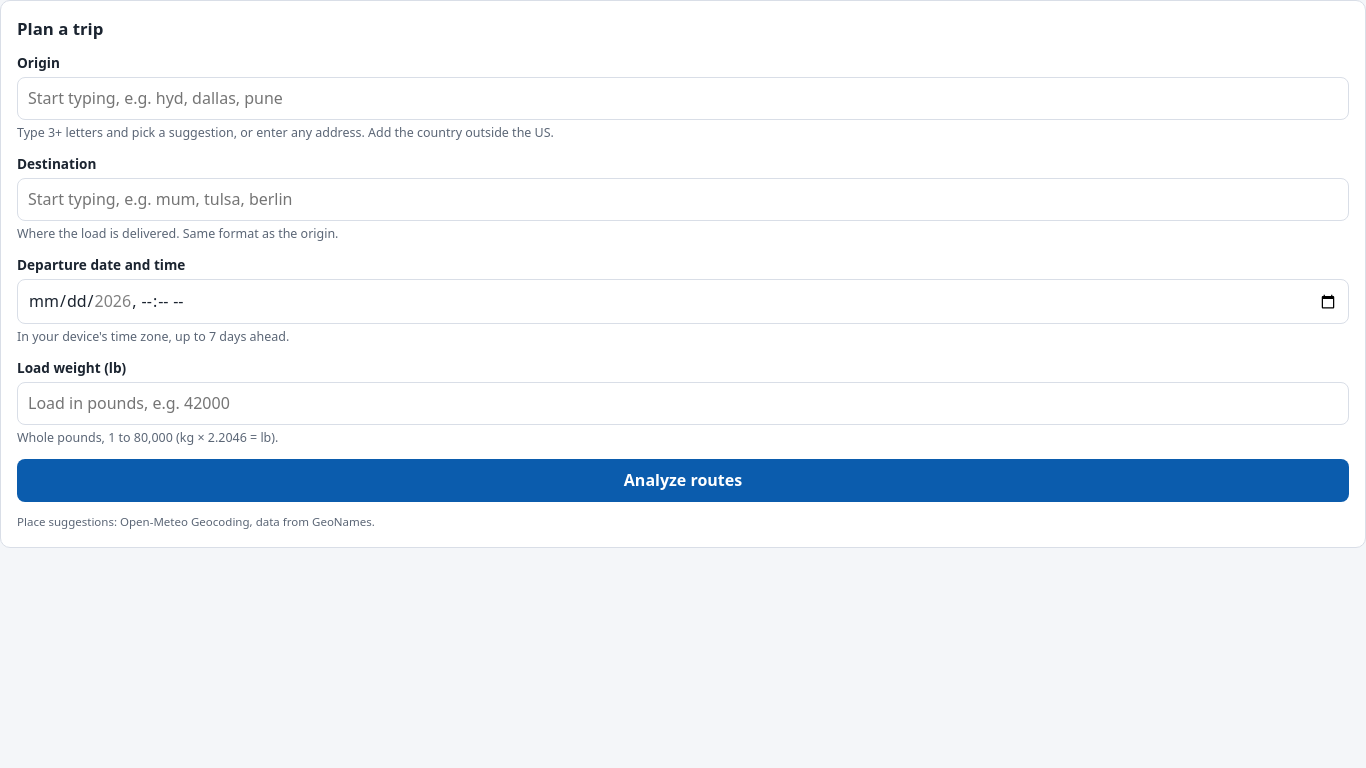
Test: TripForm › shows an error for every empty field and sends nothing
Click the button "Analyze routes" at [683, 481], box 17,459 -> 1349,502
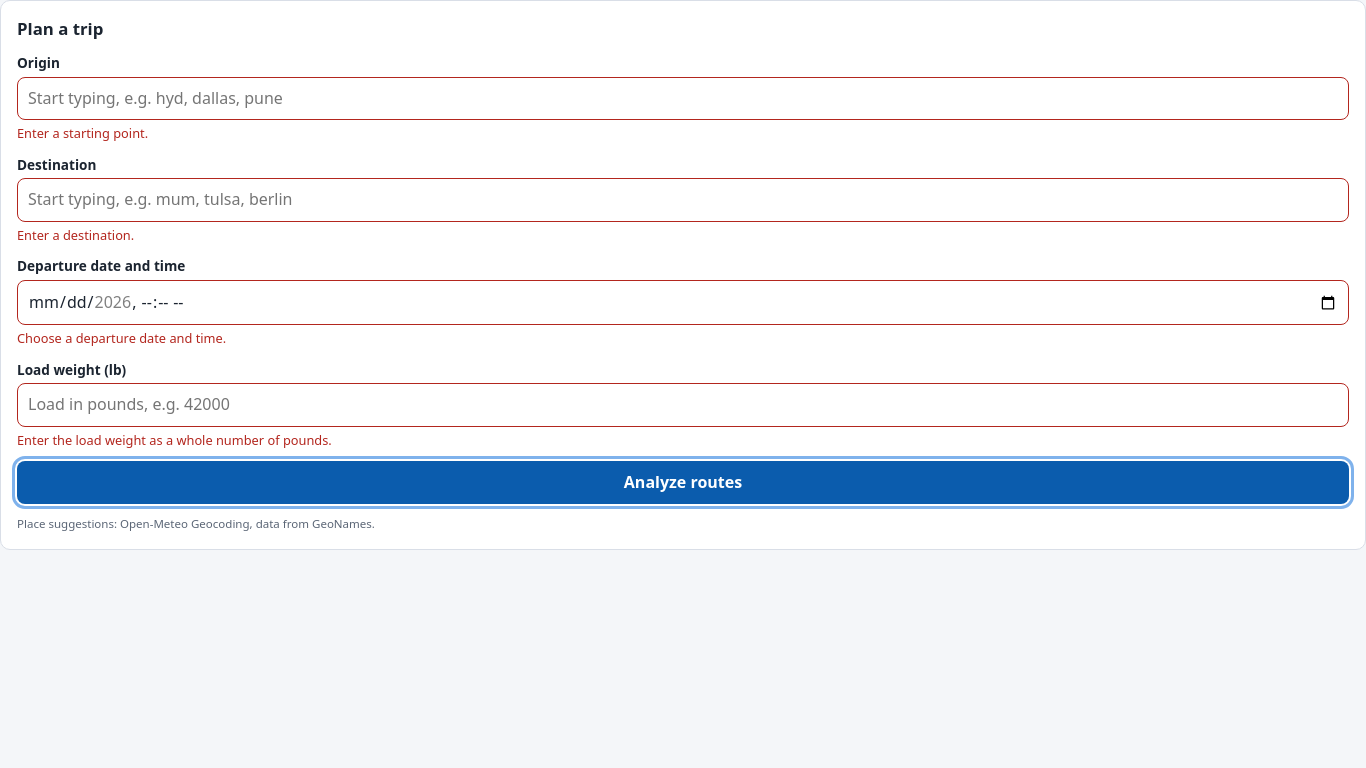
Result: the number of messages is 4 at 17,124 -> 148,142; 17,226 -> 134,244; 17,329 -> 226,347; 17,430 -> 332,448
Result: the text "Enter a starting point." is shown at 17,124 -> 148,142
Result: the text "Enter a destination." is shown at 17,226 -> 134,244
